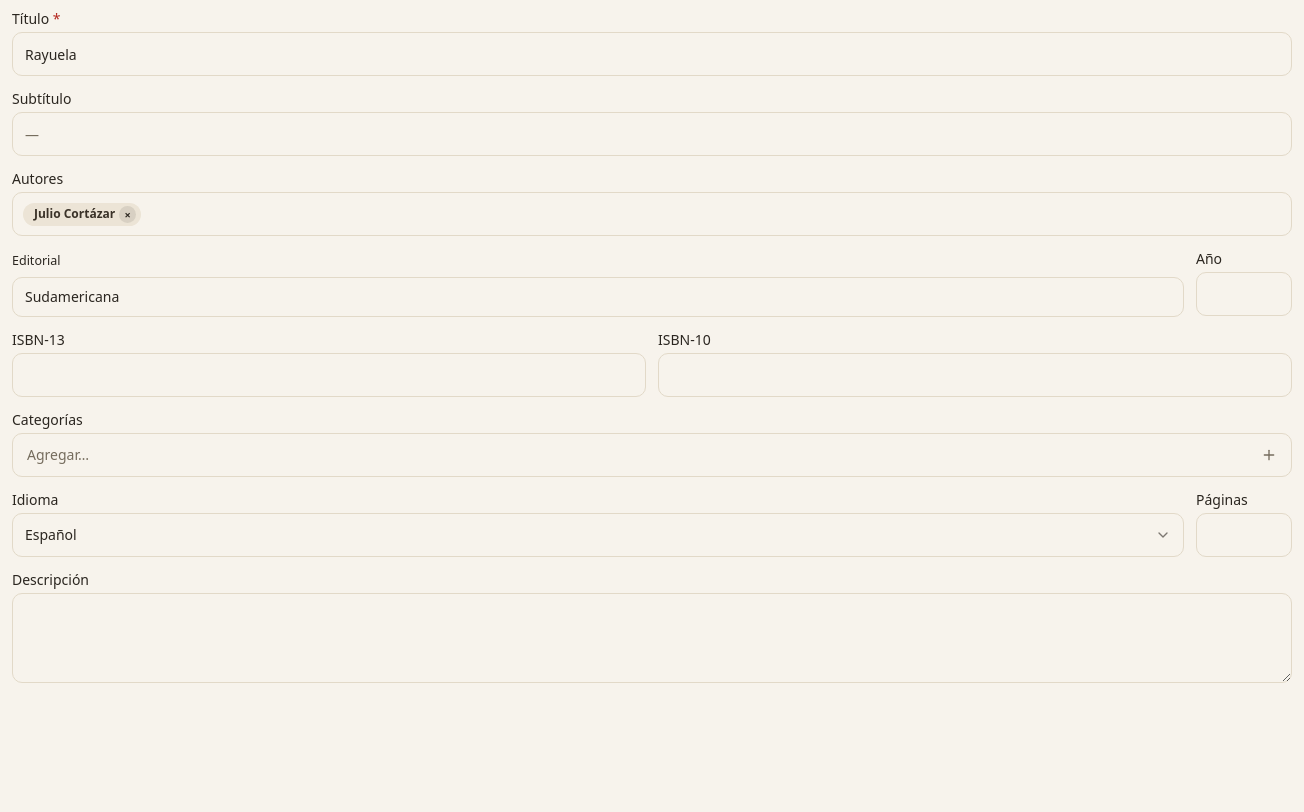
it: BookFields › edit screen: no results leaves the current cover untouched
Replace the text in the field labelled "Editorial" with "Editorial inexistente": (598, 297) [12,277,1184,317]
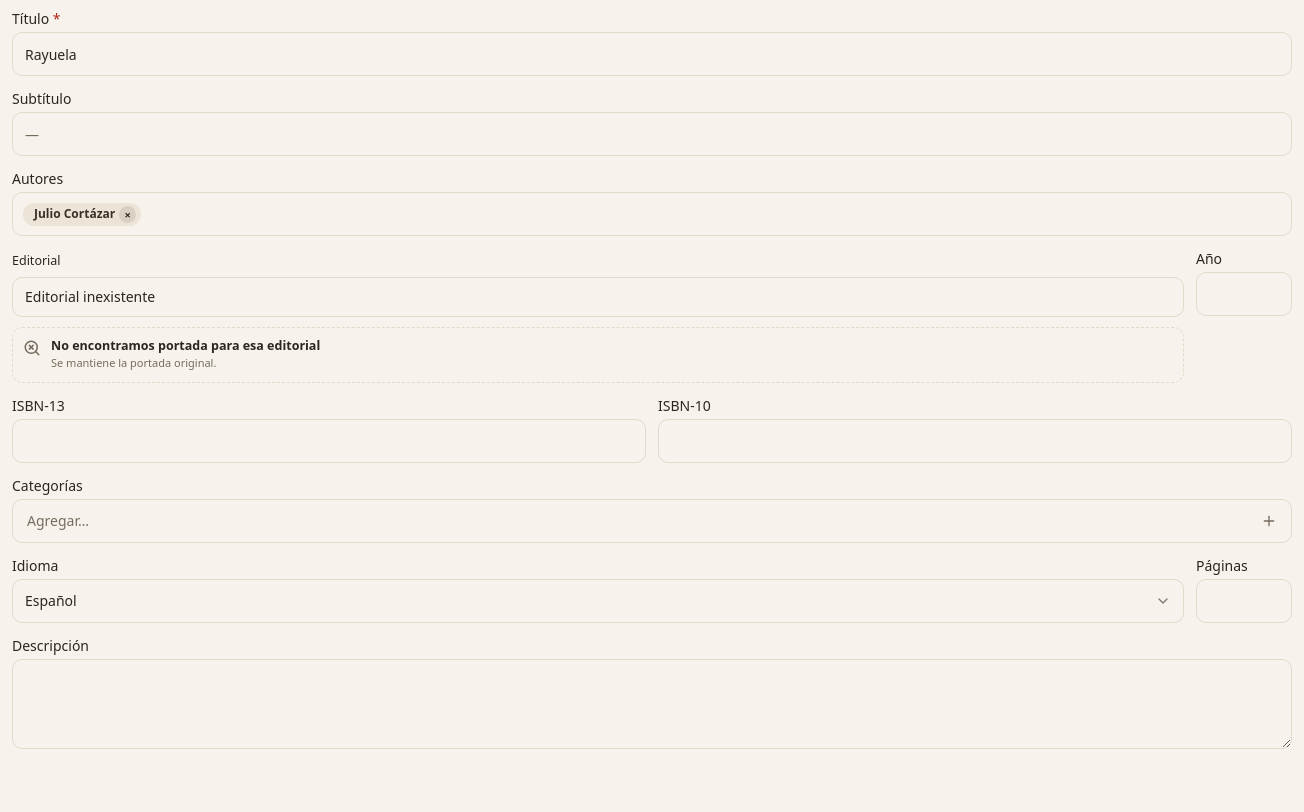
Now the text "No encontramos portada para esa editorial" is shown, box [51,338,320,353]
